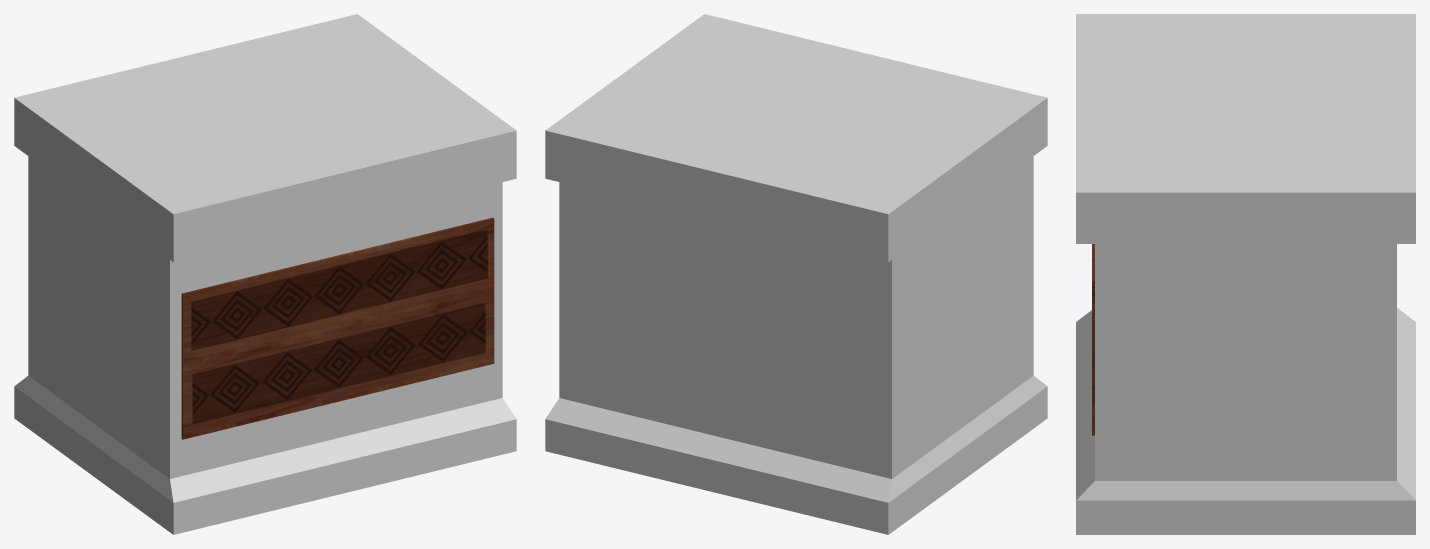
The model's file is table.fbx.
3 renders of one model, left to right at view 1: azimuth 30°, elevation 25°; view 2: azimuth 150°, elevation 25°; view 3: azimuth 270°, elevation 25°, orthographic. The views are drawn at different scales.
Visible parts, largest first — view 1: Cube_329_, Plane; view 2: Cube_329_; view 3: Cube_329_, Plane.
Boxes of the visible parts, x1,y1,x2,y2 form: Cube_329_: (14, 14, 516, 534); Plane: (181, 217, 494, 439); Cube_329_: (545, 14, 1047, 534); Cube_329_: (1076, 14, 1415, 534); Plane: (1092, 244, 1094, 435).
Bounding box in the file's own units: 142 × 126 × 114.
